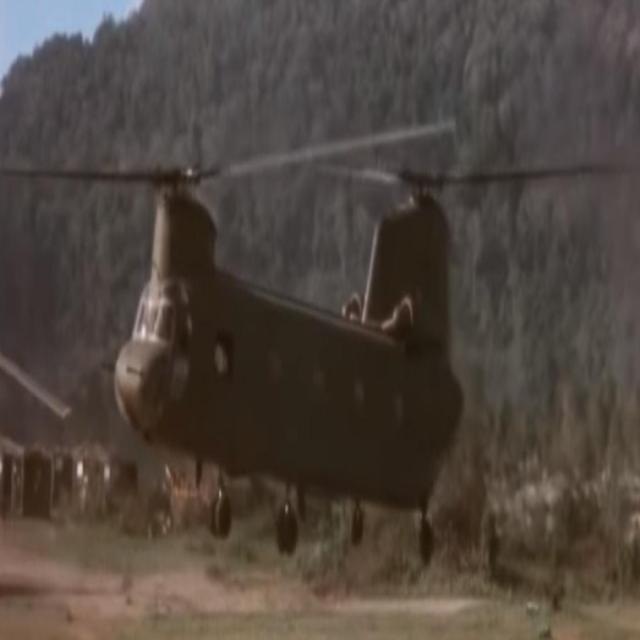Helicopter: (119, 127, 466, 590)
